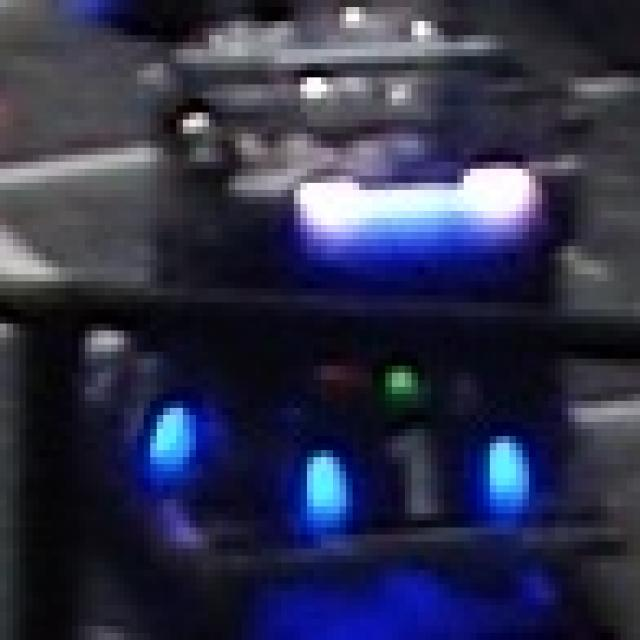B1: (300, 429, 529, 535)
